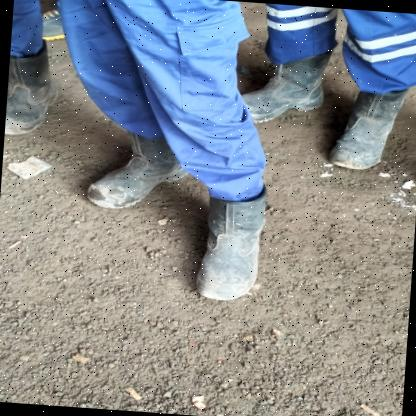bota: (76, 121, 196, 213), (192, 185, 271, 307), (235, 51, 334, 126), (5, 40, 74, 142), (329, 83, 403, 178)
